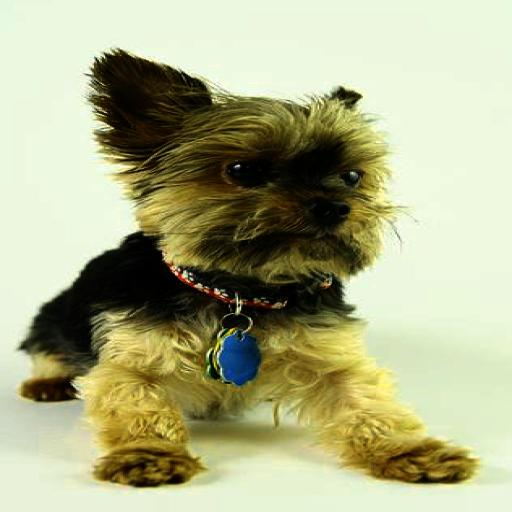dog_face: (88, 56, 396, 283)
